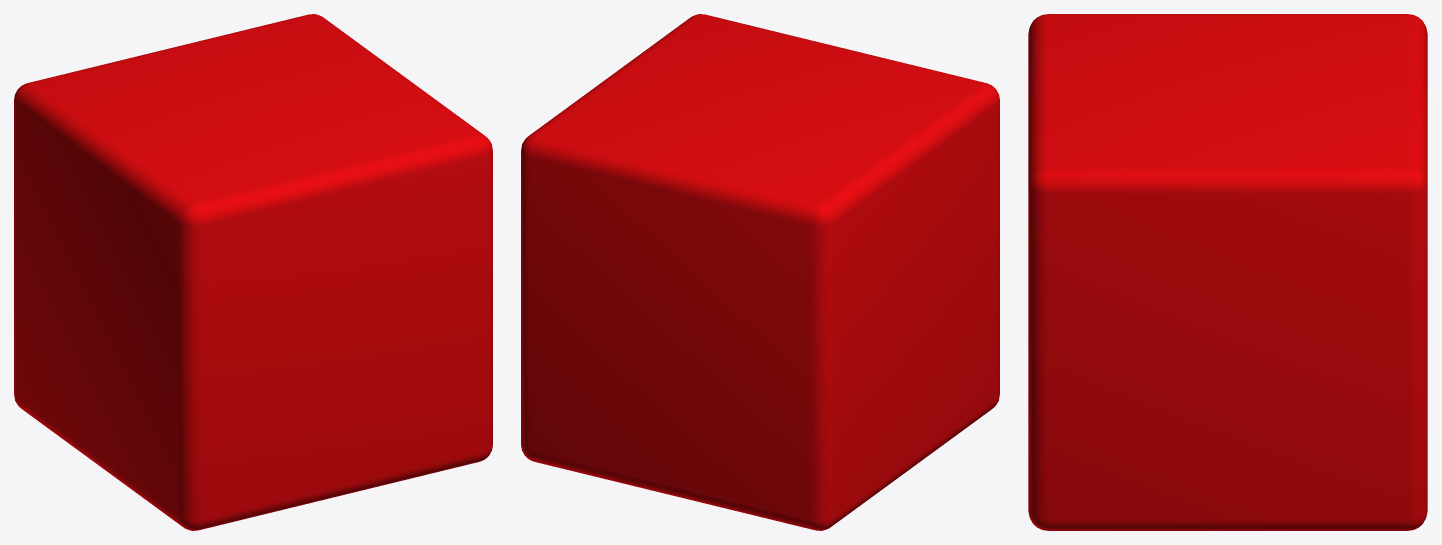
3 views of the same model, side by side, from view 1: azimuth 30°, elevation 25°; view 2: azimuth 150°, elevation 25°; view 3: azimuth 270°, elevation 25° (orthographic). The views are drawn at different scales.
Parts seen in each view (by area): view 1: Cube; view 2: Cube; view 3: Cube.
Part boxes in pixels (x1,y1,x2,y2): Cube: (14, 14, 492, 530); Cube: (521, 14, 999, 530); Cube: (1028, 14, 1427, 530).
Size of what is drawn, in the model's own units: 200 by 200 by 200.
